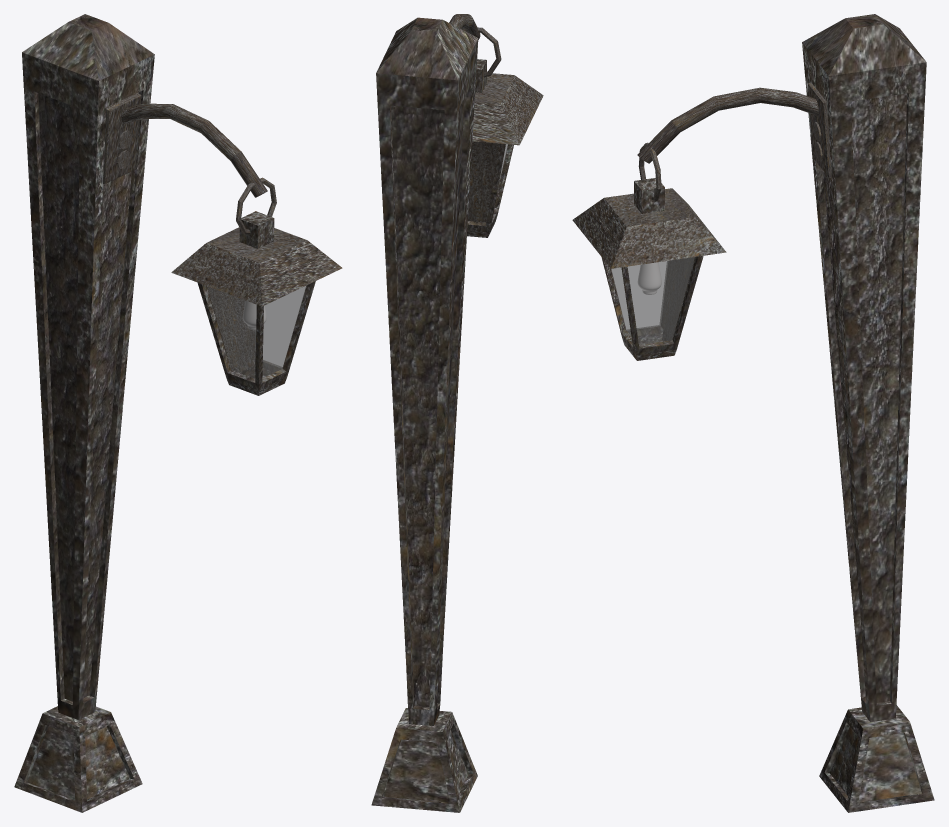
File: lamp_son_hali.fbx
3 views of the same model, side by side, from view 1: azimuth 30°, elevation 25°; view 2: azimuth 150°, elevation 25°; view 3: azimuth 270°, elevation 25° (orthographic).
Visible parts, largest first — view 1: polySurface164, polySurface170, polySurface168, polySurface165, polySurface169; view 2: polySurface164, polySurface170, polySurface168, polySurface169; view 3: polySurface164, polySurface170, polySurface168, polySurface165, pasted__Staight_Tubular.
Boxes of the visible parts, x1,y1,x2,y2 form: polySurface164: (14,14,154,812); polySurface170: (171,211,342,395); polySurface168: (121,103,267,197); polySurface165: (103,93,141,183); polySurface169: (236,177,276,234); polySurface164: (371,17,478,812); polySurface170: (467,59,543,237); polySurface168: (449,14,480,39); polySurface169: (462,27,501,77); polySurface164: (802,14,934,812); polySurface170: (572,178,726,360); polySurface168: (637,87,818,163); polySurface165: (808,82,831,177); pasted__Staight_Tubular: (637,262,661,294).
Size of the model in its own units: 0.8557 by 3.45 by 1.47.
